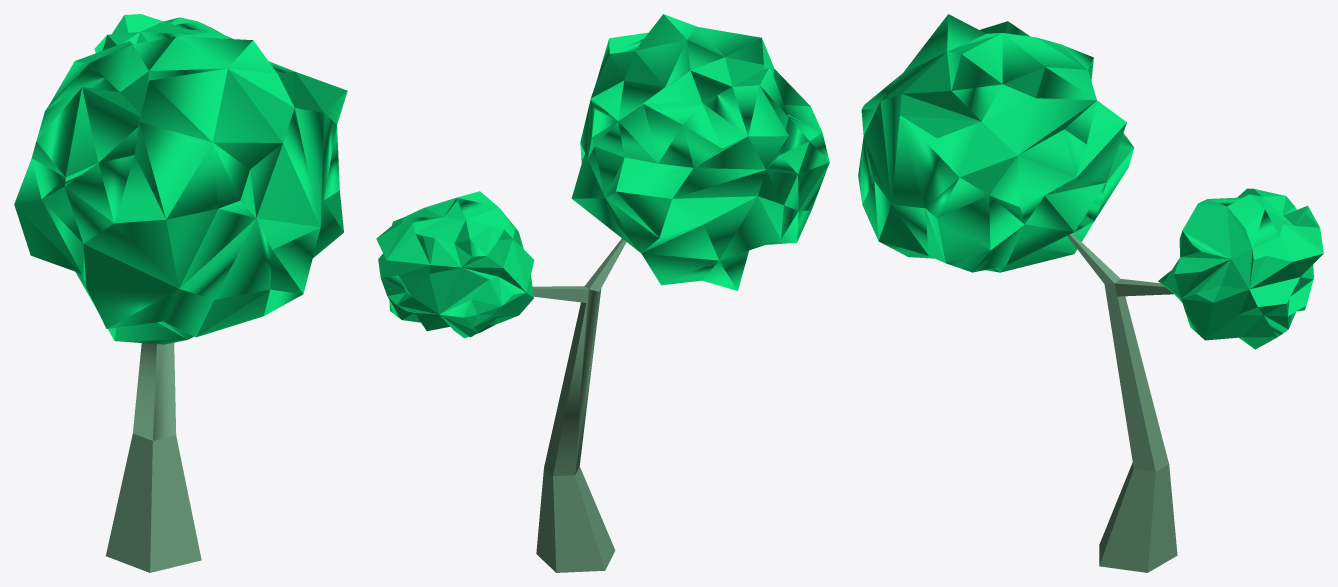
The model's file is tree 4 improved 1.FBX.
3 renders of one model, left to right at view 1: azimuth 30°, elevation 25°; view 2: azimuth 150°, elevation 25°; view 3: azimuth 270°, elevation 25°, orthographic. The views are drawn at different scales.
Parts seen in each view (by area): view 1: tree 4; view 2: tree 4; view 3: tree 4.
Part boxes in pixels (bbox=[...]): tree 4: bbox=[14, 14, 347, 572]; tree 4: bbox=[376, 14, 829, 572]; tree 4: bbox=[858, 14, 1323, 572].
Bounding box in the file's own units: 19.17 × 29.42 × 24.84.
